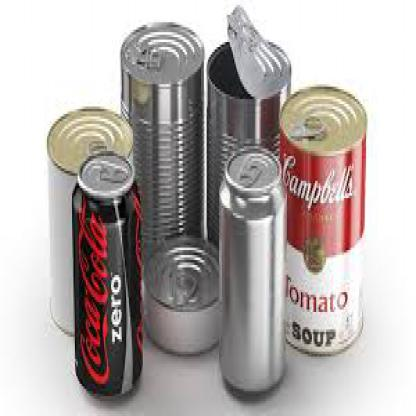METAL: (278, 84, 364, 354), (207, 2, 291, 265), (46, 106, 133, 341), (120, 22, 202, 268), (69, 149, 144, 401), (216, 141, 284, 396), (142, 232, 216, 356)
